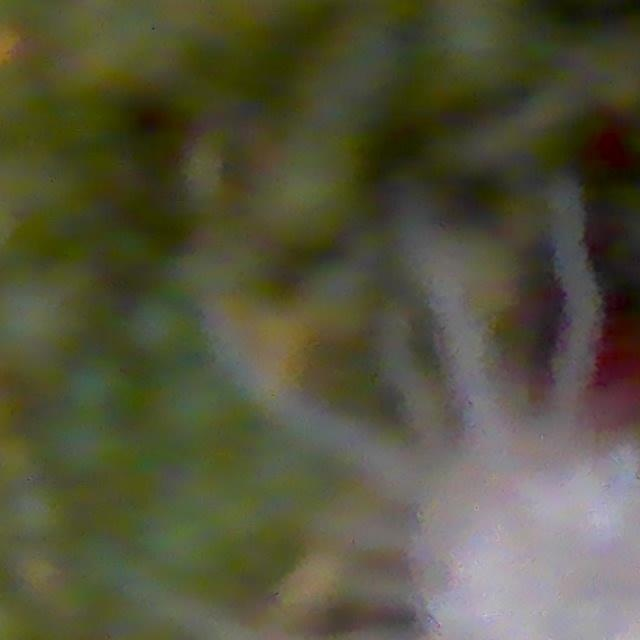SeaGrape: (0, 260, 87, 375), (148, 368, 235, 455), (60, 351, 137, 428), (124, 291, 200, 363), (3, 479, 75, 546)
